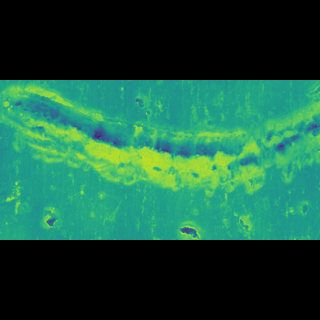Loch: (0, 121, 320, 178), (0, 160, 29, 188), (218, 181, 256, 198), (37, 181, 70, 198), (174, 190, 204, 199)
